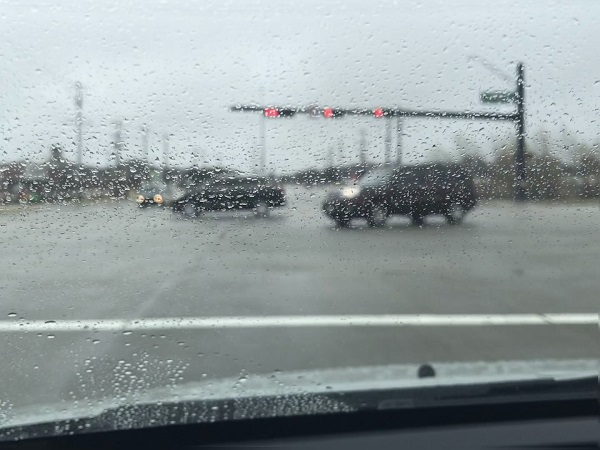car: (319, 164, 476, 227), (172, 175, 287, 218), (136, 184, 170, 209)
traffic light: (263, 106, 278, 116), (322, 105, 334, 117), (373, 107, 384, 118)
